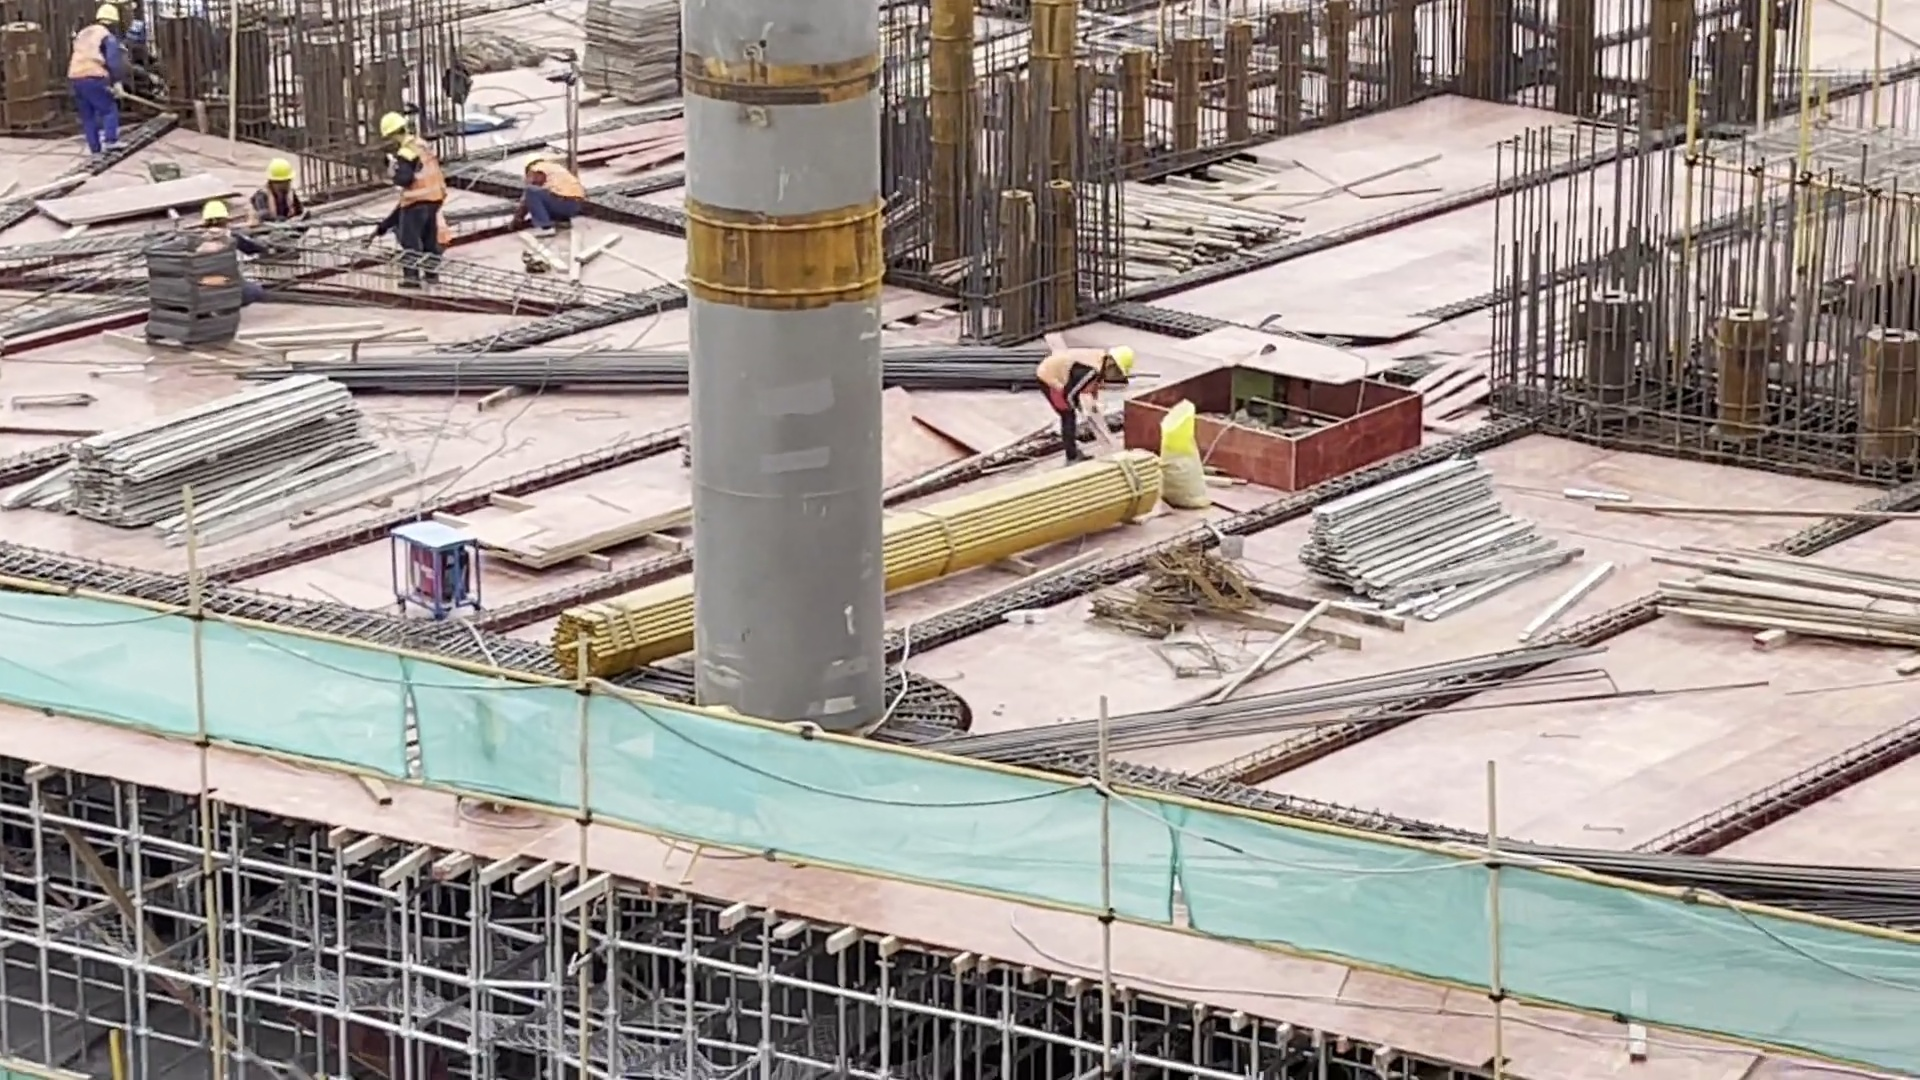helmet: (1110, 337, 1143, 386), (377, 108, 410, 139), (262, 152, 293, 180), (201, 197, 228, 224), (92, 4, 121, 26), (514, 153, 545, 174)
person: (371, 106, 449, 294), (1032, 341, 1132, 464), (68, 1, 133, 158), (197, 198, 259, 301), (512, 152, 586, 232), (244, 157, 310, 227)
rebar: (1500, 826, 1920, 940), (289, 338, 1049, 397)
vest: (1036, 345, 1110, 411), (391, 135, 441, 198), (69, 20, 111, 79), (540, 168, 582, 202)
wood: (62, 375, 411, 517), (1300, 459, 1575, 612)
